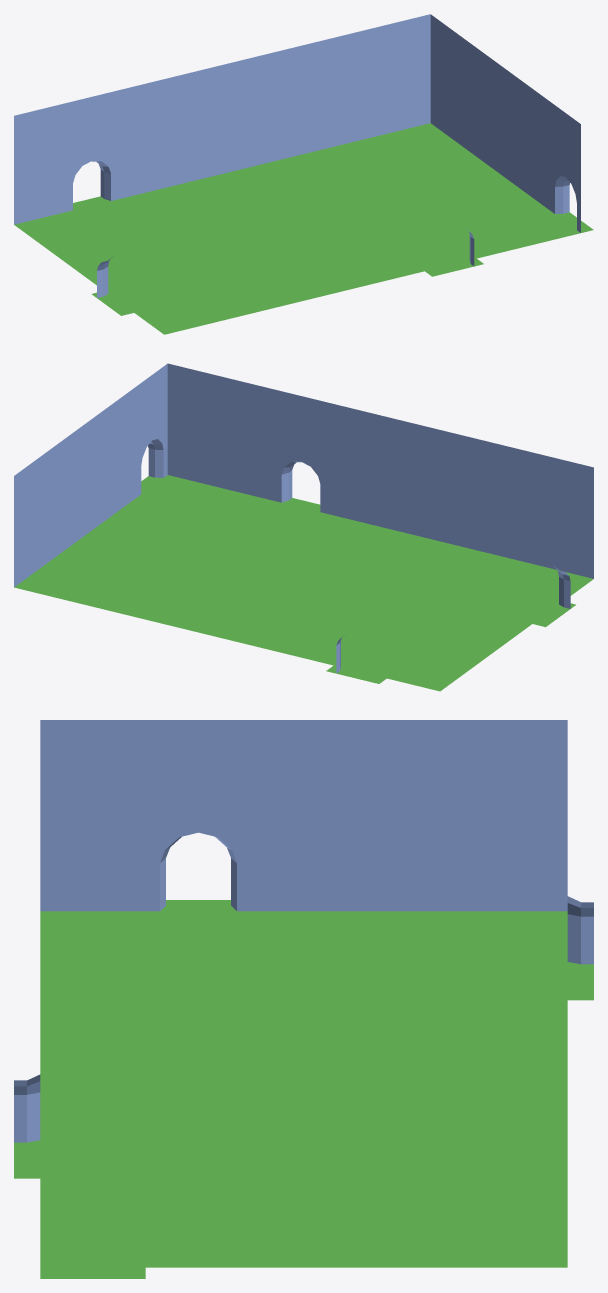
File: Room10.glb
The picture shows the model from 3 angles, top to bottom: view 1: azimuth 30°, elevation 25°; view 2: azimuth 150°, elevation 25°; view 3: azimuth 270°, elevation 25°; orthographic projection. The views are drawn at different scales.
Parts seen in each view (by area): view 1: polySurface165, Room10_Walls_Wall44.001, Room10_Walls_Wall44, Room10_Walls_Wall36.001, Room10_Walls_Wall36, polySurface165.001; view 2: polySurface165, Room10_Walls_Wall28.001, Room10_Walls_Wall28, Room10_Walls_Wall36.001, Room10_Walls_Wall28.002, Room10_Walls_Wall36, polySurface165.001; view 3: polySurface165, Room10_Walls_Wall6.001, Room10_Walls_Wall6, Room10_Walls_Wall6.002, polySurface165.001, Room10_Walls_Wall28, Room10_Walls_Wall44, polySurface165.002.
Boxes of the visible parts, bbox=[...] form: polySurface165: bbox=[14, 123, 580, 334]; Room10_Walls_Wall44.001: bbox=[144, 14, 430, 192]; Room10_Walls_Wall44: bbox=[14, 84, 144, 224]; Room10_Walls_Wall36.001: bbox=[430, 14, 535, 199]; Room10_Walls_Wall36: bbox=[536, 91, 580, 232]; polySurface165.001: bbox=[73, 196, 593, 315]; polySurface165: bbox=[14, 475, 593, 691]; Room10_Walls_Wall28.001: bbox=[381, 415, 593, 578]; Room10_Walls_Wall28: bbox=[221, 376, 380, 526]; Room10_Walls_Wall36.001: bbox=[14, 397, 121, 587]; Room10_Walls_Wall28.002: bbox=[167, 363, 220, 487]; Room10_Walls_Wall36: bbox=[121, 364, 167, 508]; polySurface165.001: bbox=[141, 476, 575, 683]; polySurface165: bbox=[40, 911, 567, 1267]; Room10_Walls_Wall6.001: bbox=[304, 720, 567, 911]; Room10_Walls_Wall6: bbox=[93, 720, 303, 911]; Room10_Walls_Wall6.002: bbox=[40, 720, 92, 911]; polySurface165.001: bbox=[40, 900, 593, 1278]; Room10_Walls_Wall28: bbox=[14, 1074, 40, 1142]; Room10_Walls_Wall44: bbox=[567, 896, 593, 964]; polySurface165.002: bbox=[14, 1140, 40, 1178].
Bounding box in the file's own units: 17 × 4 × 11.
Materials: 2 (1 with a texture image).
